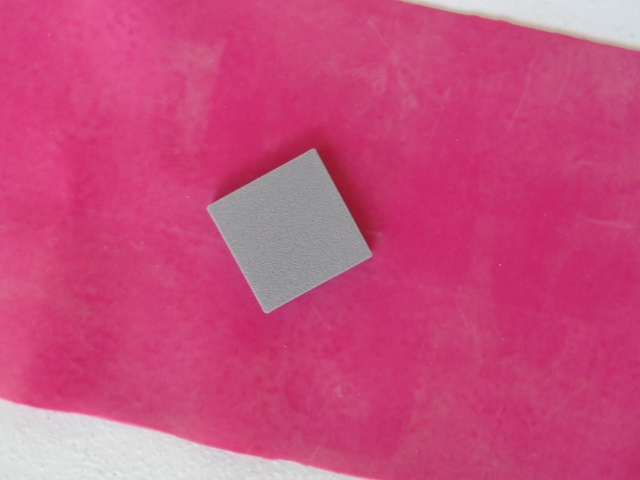Defective: (199, 146, 382, 325)
